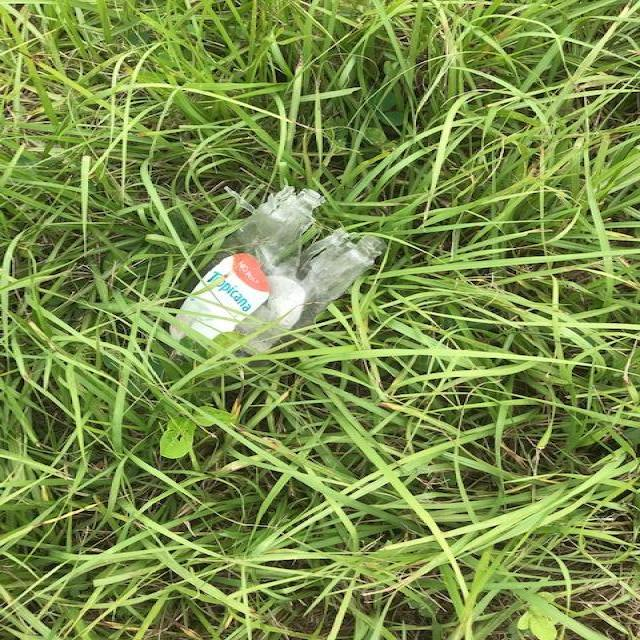litter: (149, 173, 376, 354)
